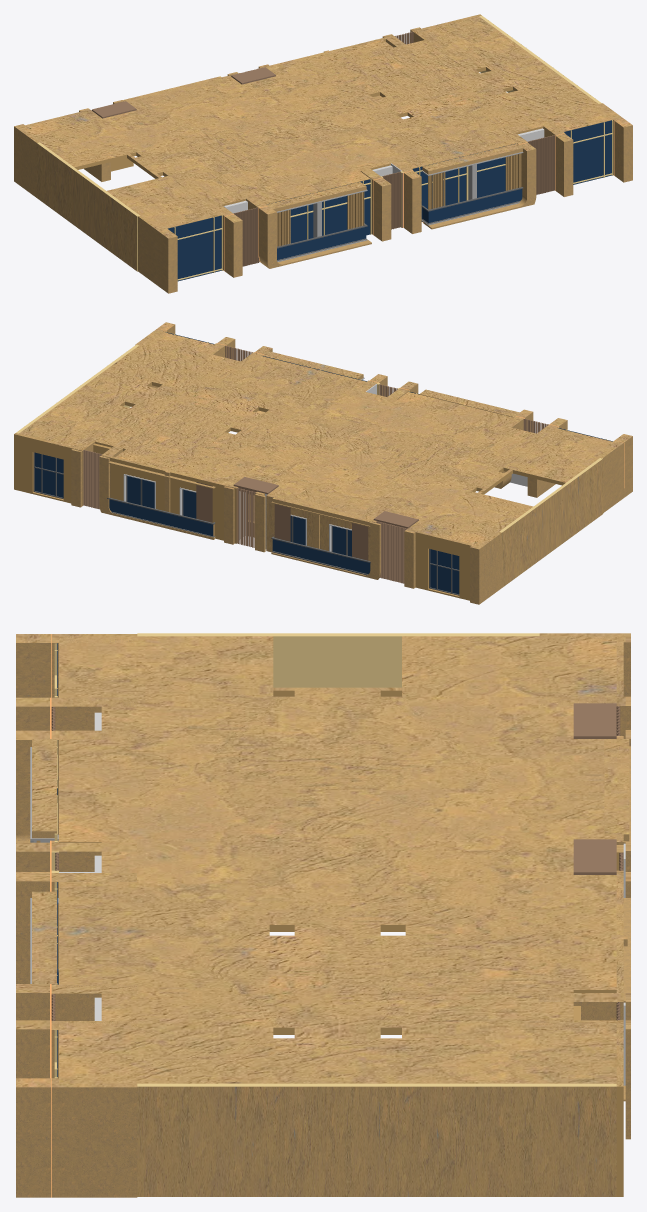
File: secondfloor.compressed.glb
3 renders of one model, top to bottom at view 1: azimuth 30°, elevation 25°; view 2: azimuth 150°, elevation 25°; view 3: azimuth 270°, elevation 25°, orthographic. The views are drawn at different scales.
Visible parts, largest first — view 1: SECOND FLOOR; view 2: SECOND FLOOR; view 3: SECOND FLOOR.
Boxes of the visible parts, <box> form: SECOND FLOOR: <box>14,14,632,293</box>; SECOND FLOOR: <box>14,322,632,604</box>; SECOND FLOOR: <box>16,633,630,1197</box>.
Bounding box in the file's own units: 11.1 × 1.3 × 6.36.
Materials: 10 (1 with a texture image).
